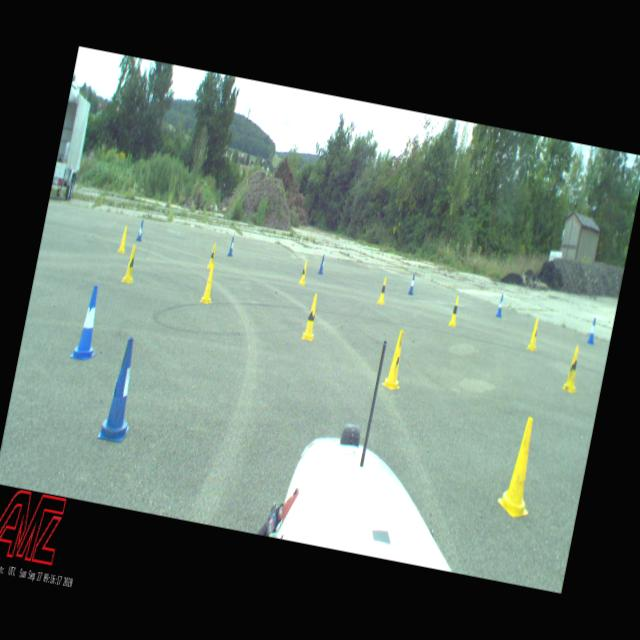blue_cone: (98, 335, 146, 444), (70, 284, 108, 362), (587, 318, 599, 344), (496, 294, 506, 317), (136, 220, 146, 240), (408, 274, 417, 296), (318, 254, 326, 274), (228, 236, 235, 256)
yellow_cone: (495, 416, 546, 520), (382, 329, 410, 390), (562, 346, 584, 394), (302, 294, 322, 342), (200, 262, 218, 304), (122, 244, 140, 284), (527, 316, 543, 351), (448, 296, 462, 326), (377, 277, 389, 305), (118, 226, 130, 253), (299, 260, 310, 286), (208, 244, 217, 268)
